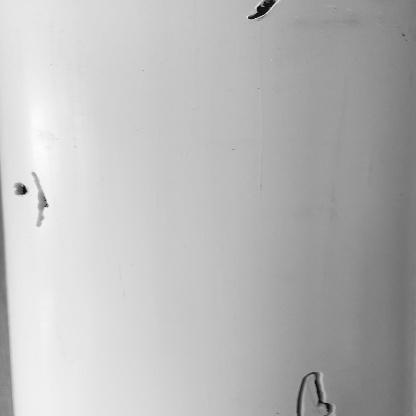fengxi: (290, 369, 345, 416), (29, 167, 53, 227)
kongdong: (238, 1, 289, 28), (10, 180, 29, 201)
